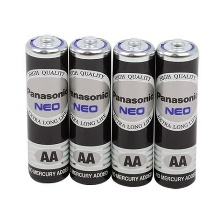battery: (22, 33, 71, 186), (108, 36, 156, 190), (150, 37, 199, 187), (66, 32, 113, 187)
